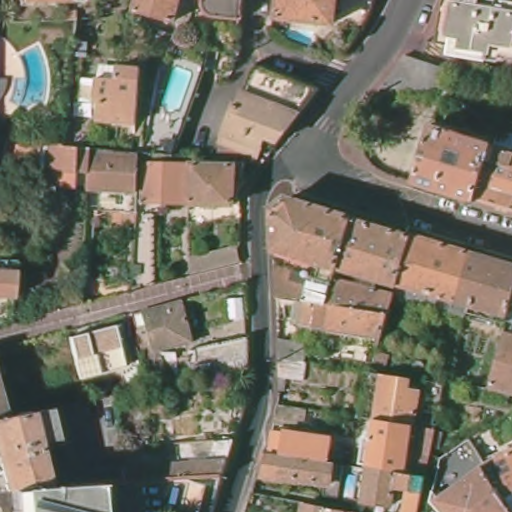pool: (14, 44, 54, 115), (162, 67, 193, 117), (281, 26, 321, 48)
